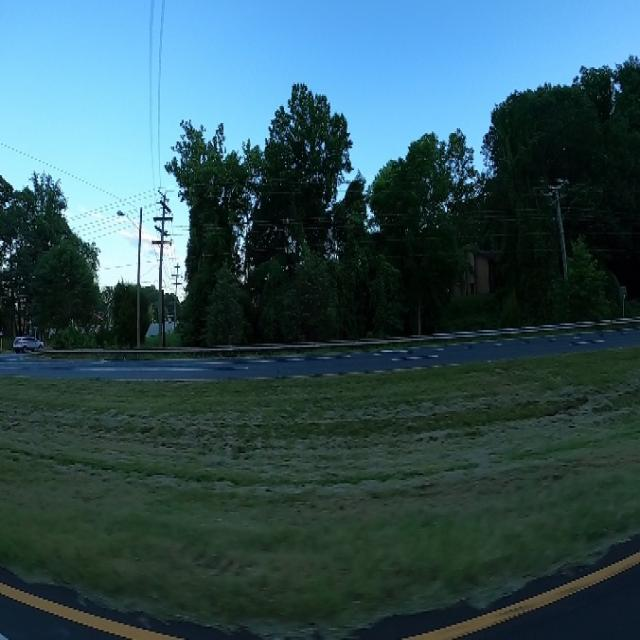cars: (9, 324, 46, 358)
